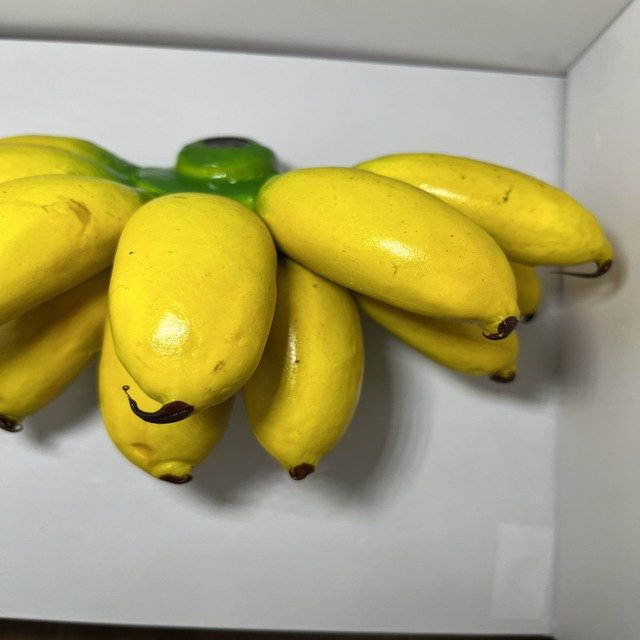Chuoi: (0, 130, 619, 491)
